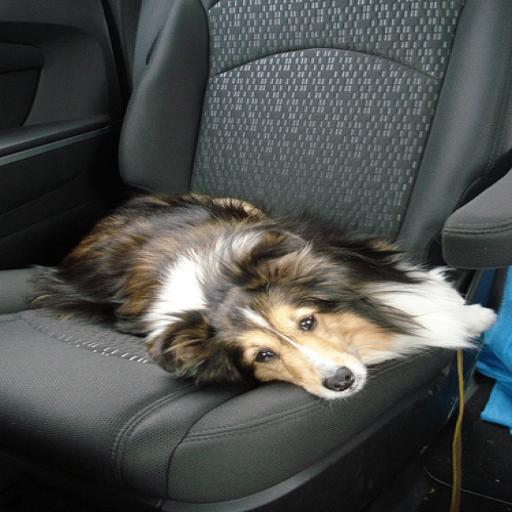dog_face: (150, 250, 384, 408)
